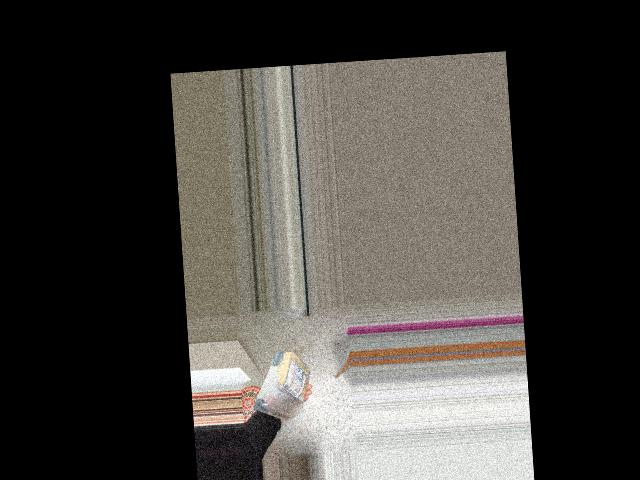cheese: (251, 345, 315, 433)
